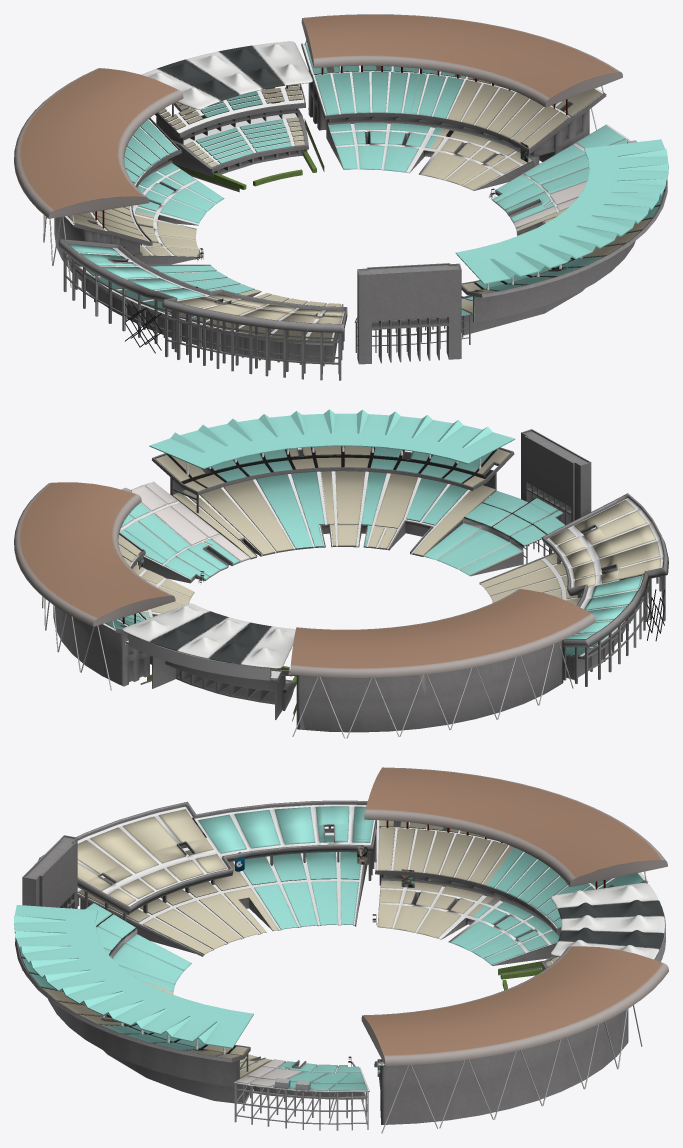
Rendered from Stadium.fbx.
3 renders of one model, top to bottom at view 1: azimuth 30°, elevation 25°; view 2: azimuth 150°, elevation 25°; view 3: azimuth 270°, elevation 25°, orthographic. The views are drawn at different scales.
Visible parts, largest first — view 1: polySurface183; view 2: polySurface183; view 3: polySurface183.
Boxes of the visible parts, x1,y1,x2,y2 form: polySurface183: (14,14,668,380); polySurface183: (14,409,668,738); polySurface183: (14,767,668,1133).
Bounding box in the file's own units: 29486 × 4547 × 27866.
